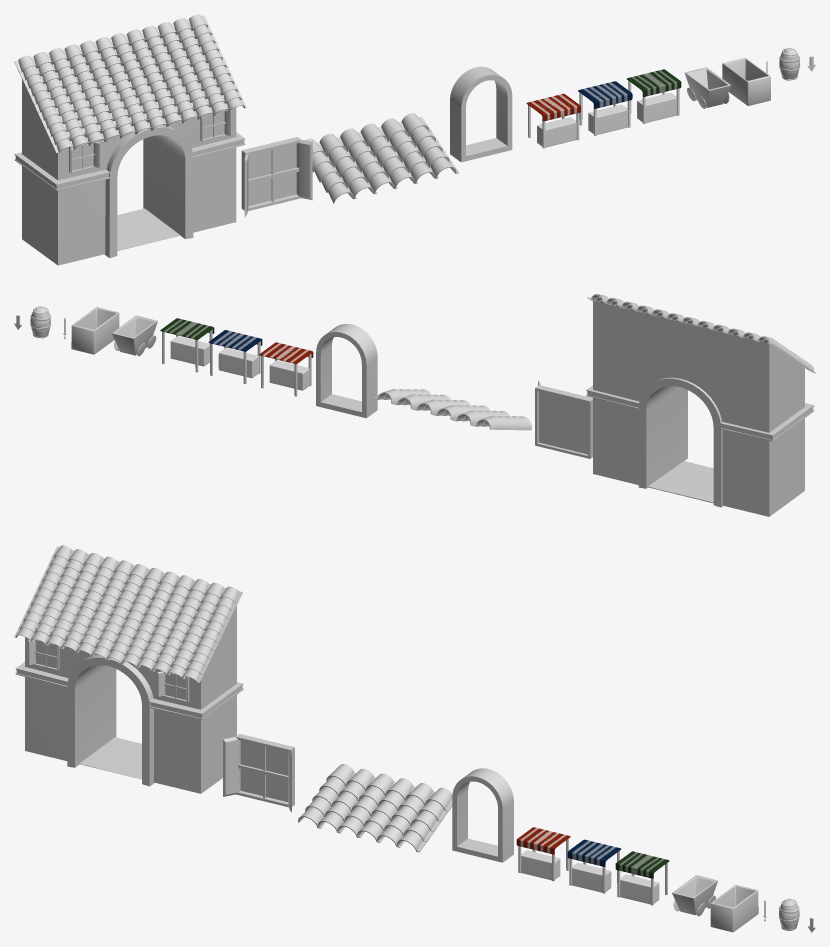
The model's file is medieval_props.fbx.
3 views of the same model, one above another, from view 1: azimuth 30°, elevation 25°; view 2: azimuth 150°, elevation 25°; view 3: azimuth 330°, elevation 25° (orthographic).
Visible parts, largest first — view 1: Tejado(Puerta), Puerta, Arco(Puerta), Tejado, Arco, Ventana, Ventana_Dentro, Caja, Carrito, Mesa(Tienda_Medieval2), Mesa(Tienda_Medieval), Mesa(Tienda_Medieval3) (+6 smaller); view 2: Puerta, Arco(Puerta), Arco, Tejado, Ventana_Dentro, Tejado(Puerta), Caja, Carrito, Ventana, Mesa(Tienda_Medieval), Mesa(Tienda_Medieval2), Mesa(Tienda_Medieval3) (+4 smaller); view 3: Tejado(Puerta), Puerta, Arco(Puerta), Tejado, Arco, Ventana, Ventana_Dentro, Caja, Carrito, Mesa(Tienda_Medieval3), Mesa(Tienda_Medieval), Mesa(Tienda_Medieval2) (+3 smaller).
Part boxes in pixels (x1,y1,x2,y2): Tejado(Puerta): (14, 14, 246, 153); Puerta: (22, 64, 236, 265); Arco(Puerta): (14, 125, 245, 258); Tejado: (305, 113, 458, 203); Arco: (450, 66, 512, 162); Ventana: (241, 137, 312, 217); Ventana_Dentro: (248, 143, 296, 205); Caja: (722, 57, 770, 105); Carrito: (684, 67, 730, 108); Mesa(Tienda_Medieval2): (579, 92, 630, 135); Mesa(Tienda_Medieval): (528, 105, 579, 148); Mesa(Tienda_Medieval3): (628, 81, 679, 123); Puerta: (593, 301, 804, 516); Arco(Puerta): (586, 377, 814, 507); Arco: (316, 324, 377, 418); Tejado: (372, 389, 531, 430); Ventana_Dentro: (539, 391, 587, 454); Tejado(Puerta): (587, 294, 815, 373); Caja: (71, 307, 119, 354); Carrito: (112, 315, 157, 356); Ventana: (535, 380, 592, 458); Mesa(Tienda_Medieval): (261, 354, 311, 396); Mesa(Tienda_Medieval2): (210, 341, 260, 383); Mesa(Tienda_Medieval3): (162, 329, 212, 372); Tejado(Puerta): (14, 545, 242, 682); Puerta: (25, 561, 236, 793); Arco(Puerta): (15, 655, 243, 786); Tejado: (298, 764, 452, 852); Arco: (452, 768, 513, 862); Ventana: (223, 734, 294, 812); Ventana_Dentro: (240, 740, 288, 801); Caja: (710, 885, 758, 932); Carrito: (672, 875, 717, 916); Mesa(Tienda_Medieval3): (617, 862, 667, 905); Mesa(Tienda_Medieval): (518, 838, 568, 881); Mesa(Tienda_Medieval2): (569, 851, 619, 893).
Bounding box in the file's own units: 2816 × 664 × 292.
